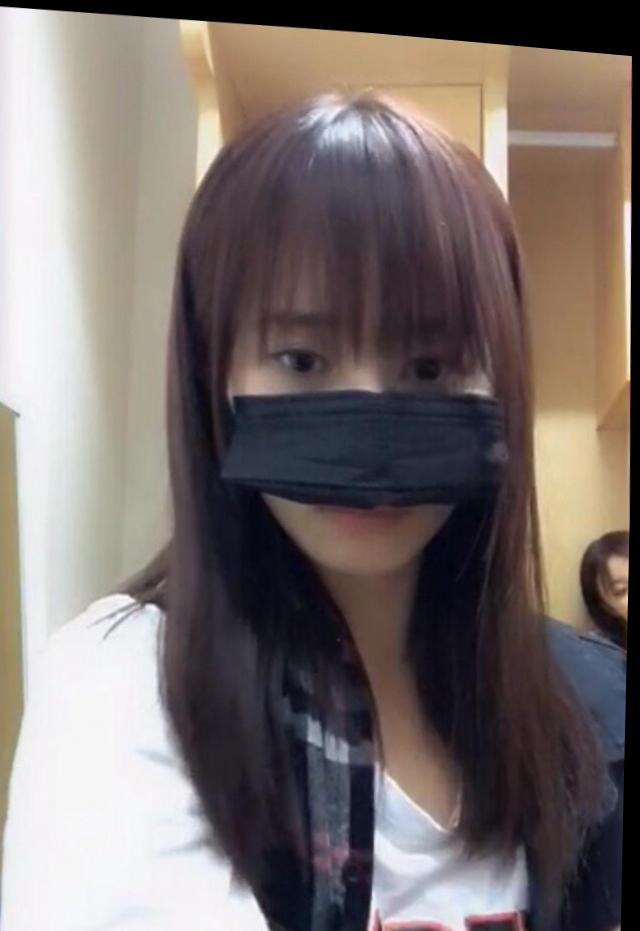WRONG: (209, 260, 526, 594)
